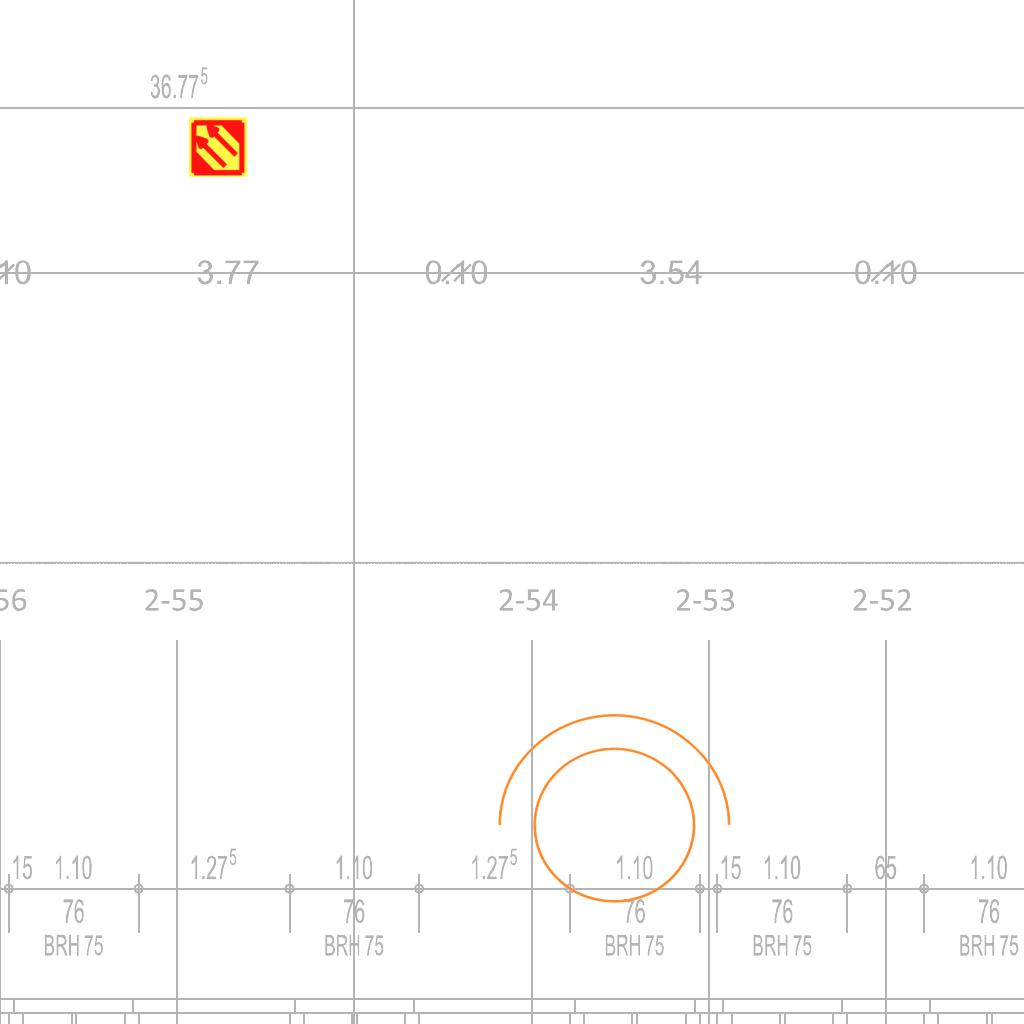ASR_Ansaugrauchmelder: (187, 116, 249, 178)
Scheinwerfer_fuer_Alarmbeleuchtung: (476, 703, 740, 928)
